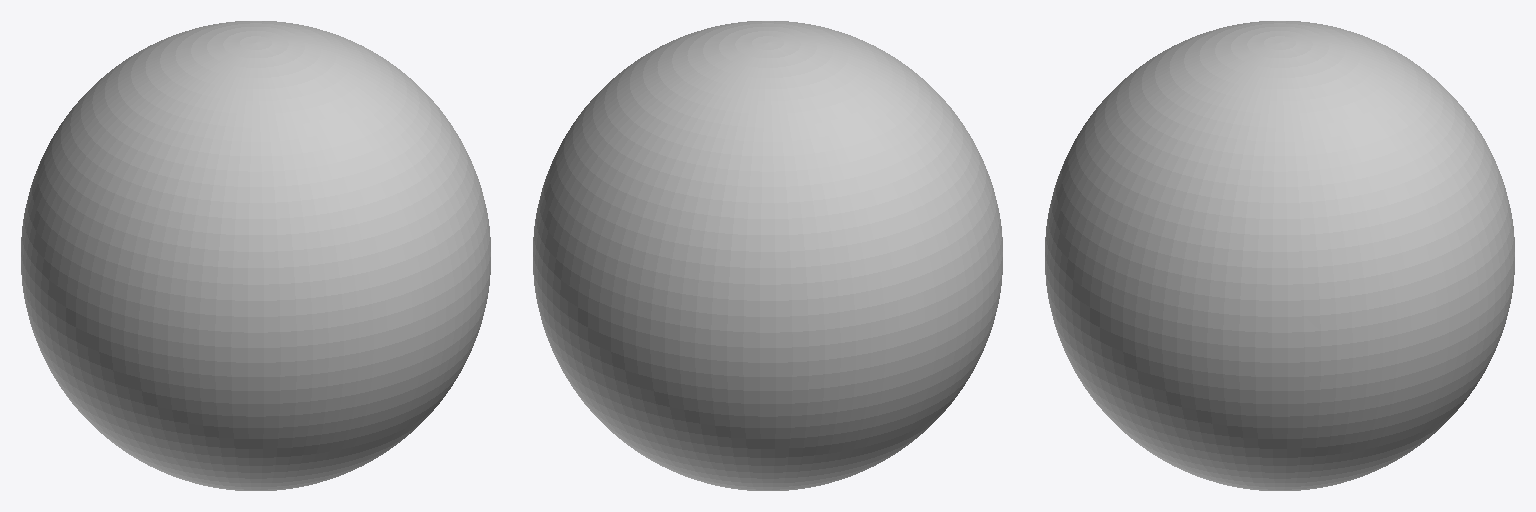
File: env_sphere.obj
The picture shows the model from 3 angles: view 1: azimuth 30°, elevation 25°; view 2: azimuth 150°, elevation 25°; view 3: azimuth 270°, elevation 25°; orthographic projection.
Visible parts, largest first — view 1: Sphere_Sphere.001; view 2: Sphere_Sphere.001; view 3: Sphere_Sphere.001.
Part boxes in pixels (left/top/right/bottom): Sphere_Sphere.001: left=21, top=21, right=490, bottom=490; Sphere_Sphere.001: left=533, top=21, right=1002, bottom=490; Sphere_Sphere.001: left=1045, top=21, right=1514, bottom=490.
Size of the model in its own units: 2 by 2 by 2.